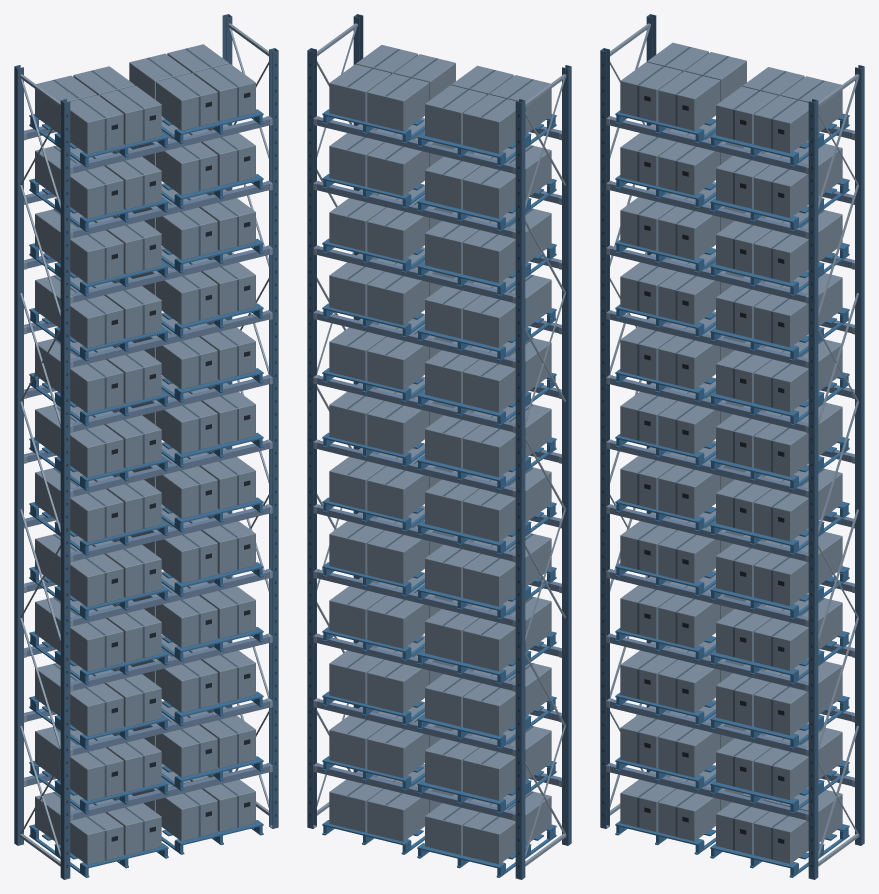
The model's file is SM_GHS_V2Rack_B_W26457.fbx.
The picture shows the model from 3 angles, left to right: view 1: azimuth 30°, elevation 25°; view 2: azimuth 150°, elevation 25°; view 3: azimuth 330°, elevation 25°; orthographic projection.
Visible parts, largest first — view 1: SM_GHS_V2Rack_B_W26457; view 2: SM_GHS_V2Rack_B_W26457; view 3: SM_GHS_V2Rack_B_W26457.
Part boxes in pixels (x1,y1,x2,y2): SM_GHS_V2Rack_B_W26457: (14,14,278,879); SM_GHS_V2Rack_B_W26457: (307,14,571,879); SM_GHS_V2Rack_B_W26457: (600,14,864,879).
Bounding box in the file's own units: 265 × 122 × 915.
